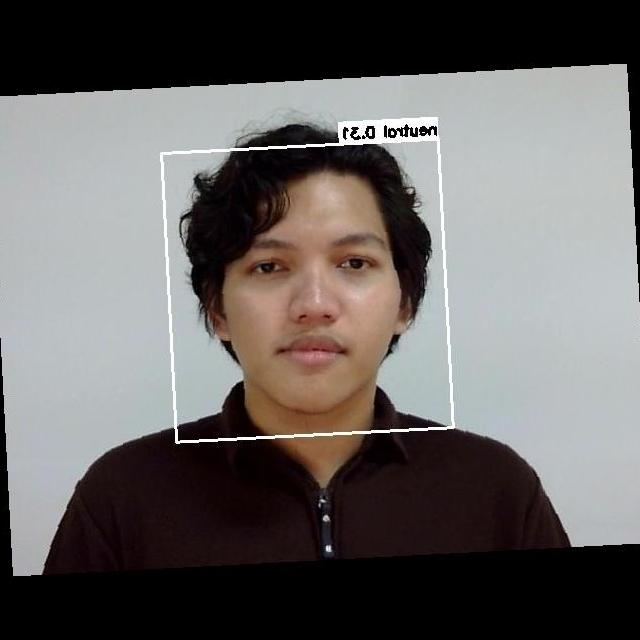Natural: (219, 210, 402, 386)
